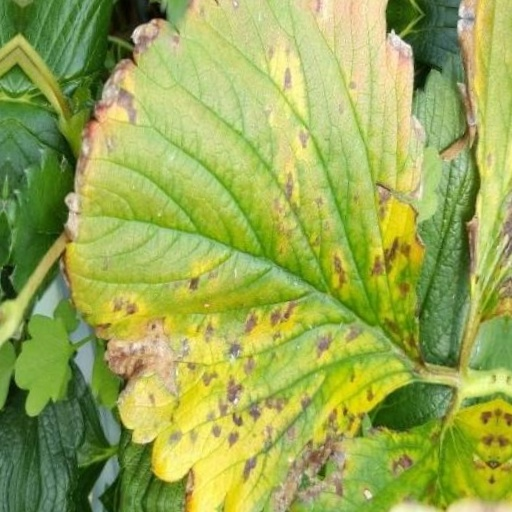Angular Leafspot: (72, 0, 453, 511), (0, 375, 204, 511)
